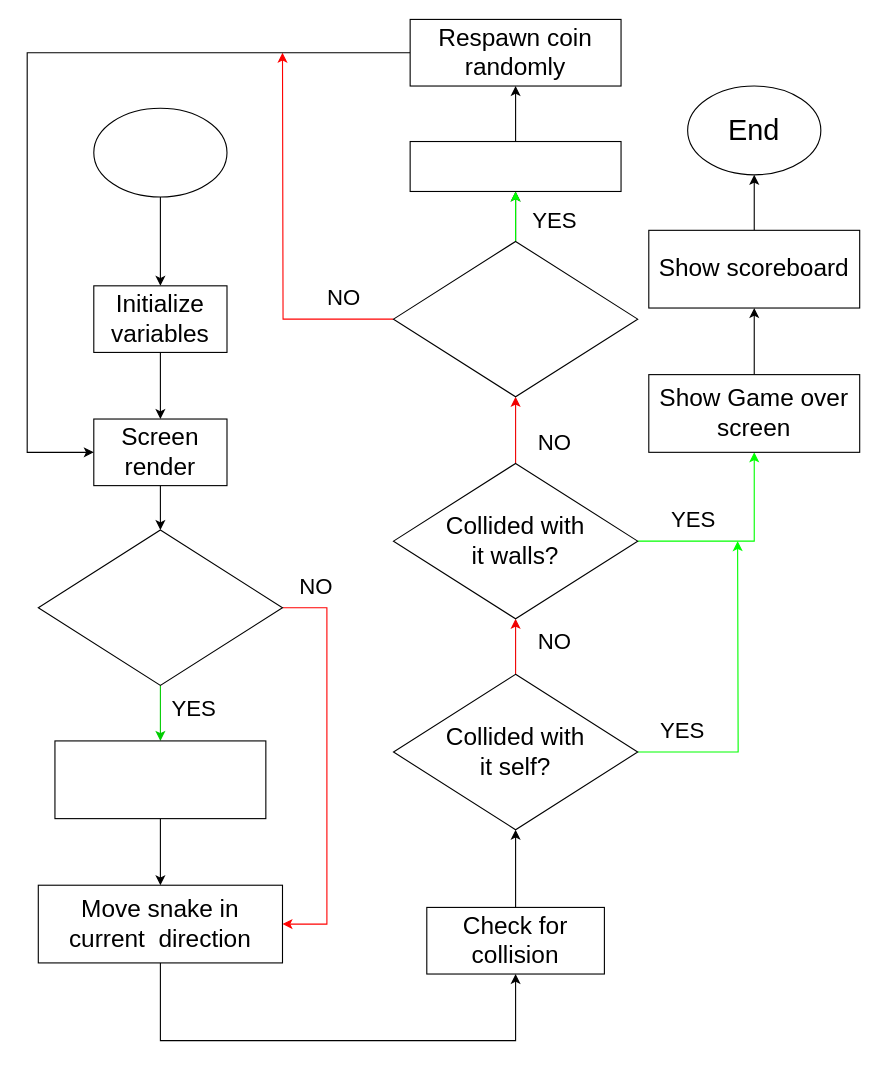
The diagram is 879 pixels wide and 1069 high, and some of its shapes have lost their labels. The centre of each missing label's shape, as x and y in pixels:
"Add 10 to coins" belongs at (x=515, y=165).
"Change the current direction" belongs at (x=160, y=779).
"Collided with it food?" belongs at (x=515, y=318).
"New direction selected?" belongs at (x=159, y=607).
"start" belongs at (x=160, y=152).
